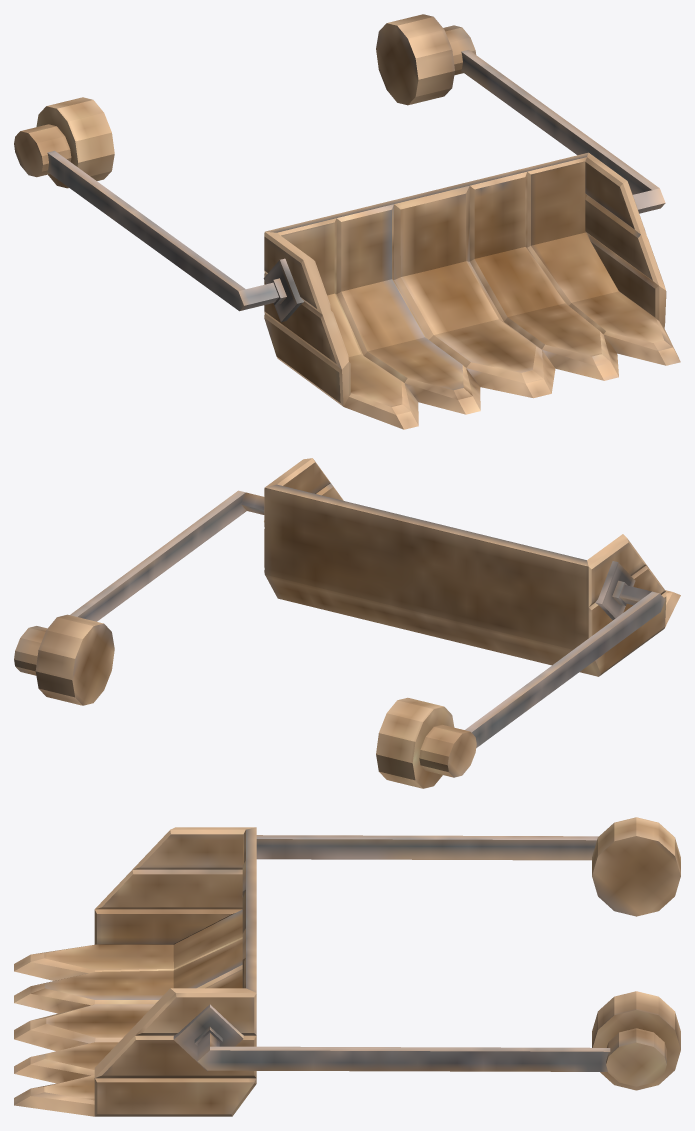
The model's file is Truck_v006_fork.obj.
The picture shows the model from 3 angles, top to bottom: view 1: azimuth 30°, elevation 25°; view 2: azimuth 150°, elevation 25°; view 3: azimuth 270°, elevation 25°; orthographic projection. The views are drawn at different scales.
Visible parts, largest first — view 1: Truck_fork; view 2: Truck_fork; view 3: Truck_fork.
Boxes of the visible parts, box(x1,y1,x2,y2) form: Truck_fork: box(14, 14, 680, 429); Truck_fork: box(14, 458, 680, 788); Truck_fork: box(14, 817, 680, 1116).
Size of the model in its own units: 1.69 by 0.4473 by 2.15.
